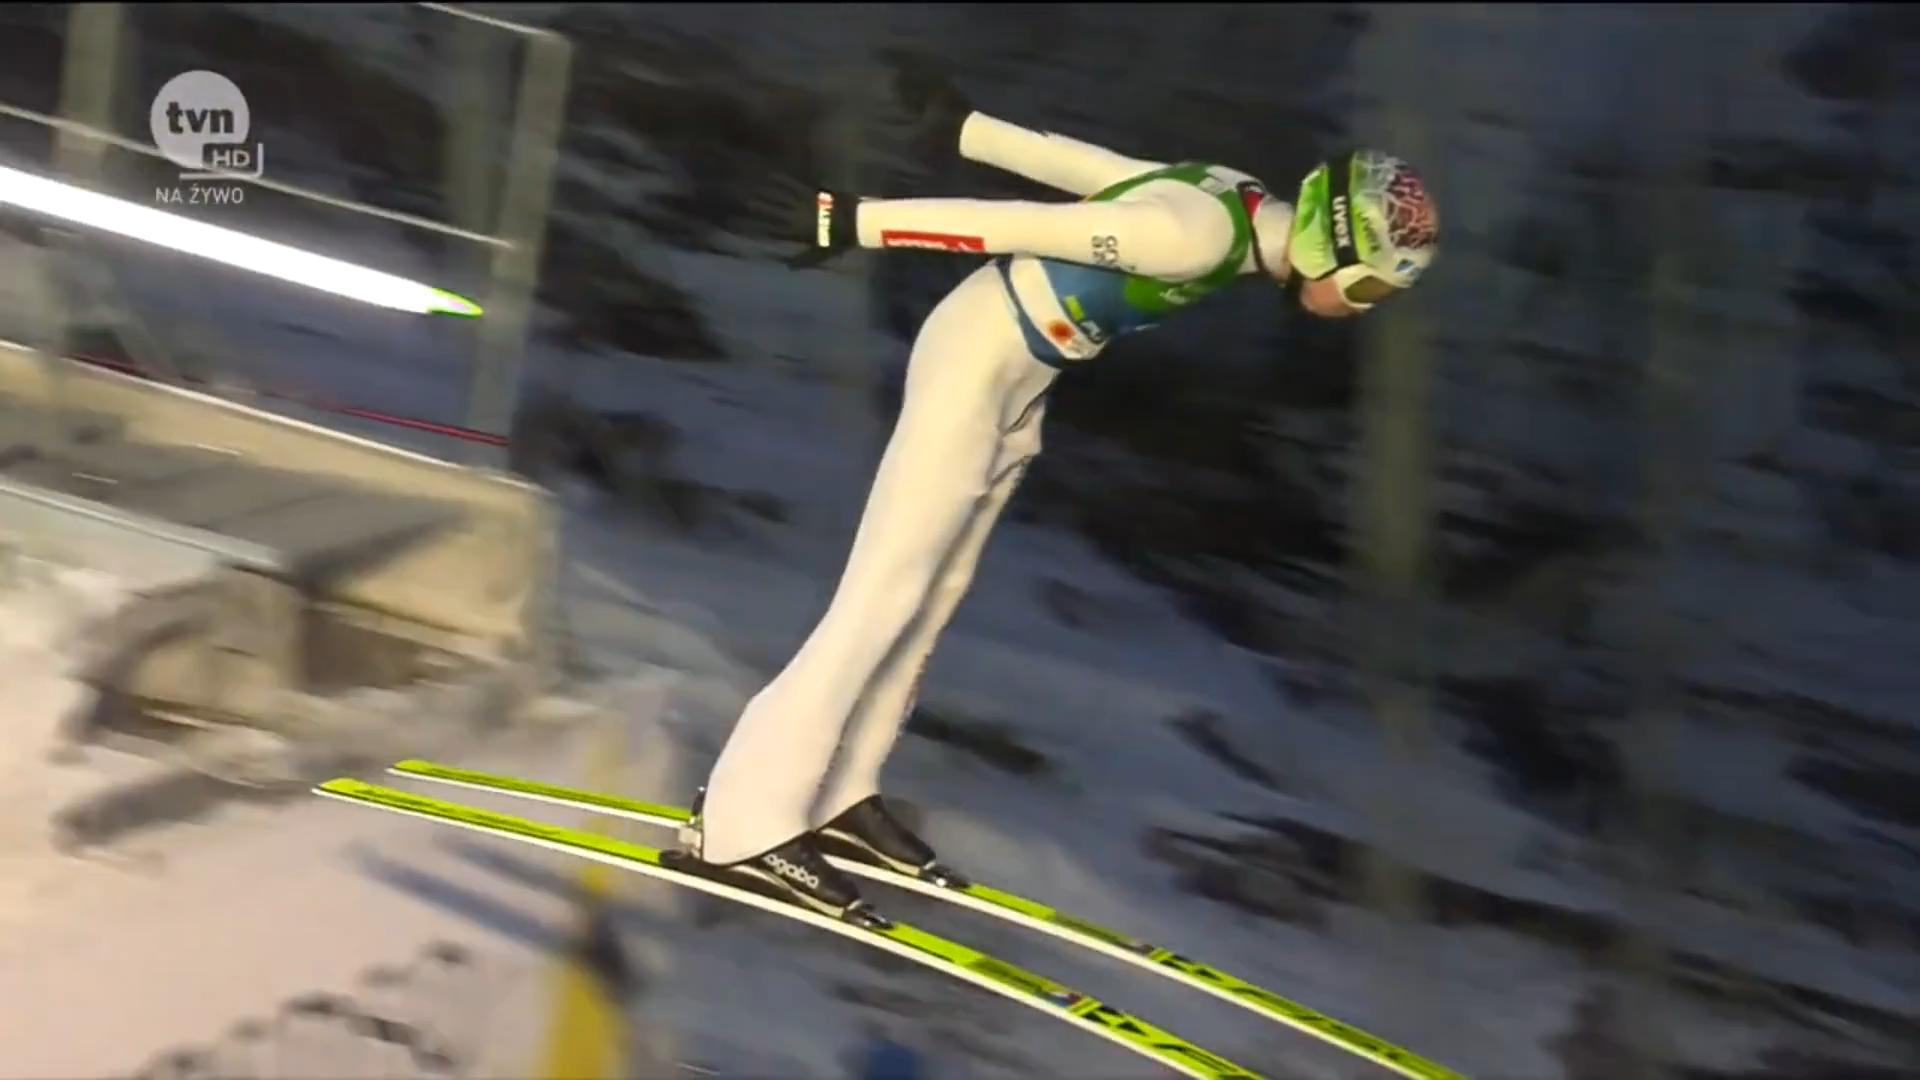prog: (131, 505, 459, 613)
